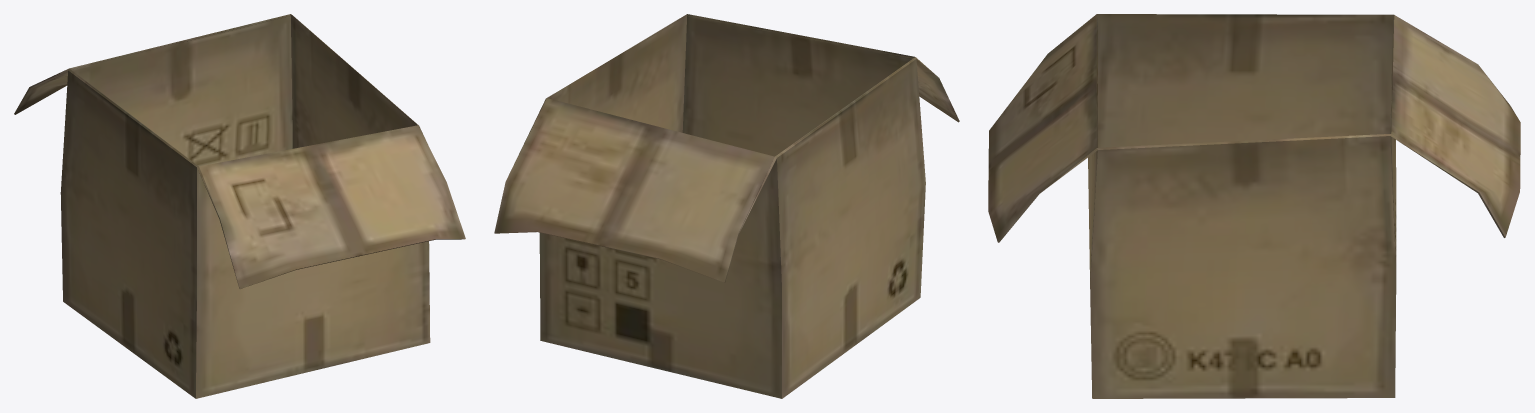
File: cardboard_box_a.glb
3 renders of one model, left to right at view 1: azimuth 30°, elevation 25°; view 2: azimuth 150°, elevation 25°; view 3: azimuth 270°, elevation 25°, orthographic. The views are drawn at different scales.
Parts seen in each view (by area): view 1: cardboard_box_a; view 2: cardboard_box_a; view 3: cardboard_box_a.
Boxes of the visible parts, x1,y1,x2,y2 form: cardboard_box_a: [14, 14, 465, 398]; cardboard_box_a: [494, 14, 959, 398]; cardboard_box_a: [988, 14, 1520, 398].
Bounding box in the file's own units: 0.4925 × 0.4663 × 0.8599.
1 material, 1 textured.
